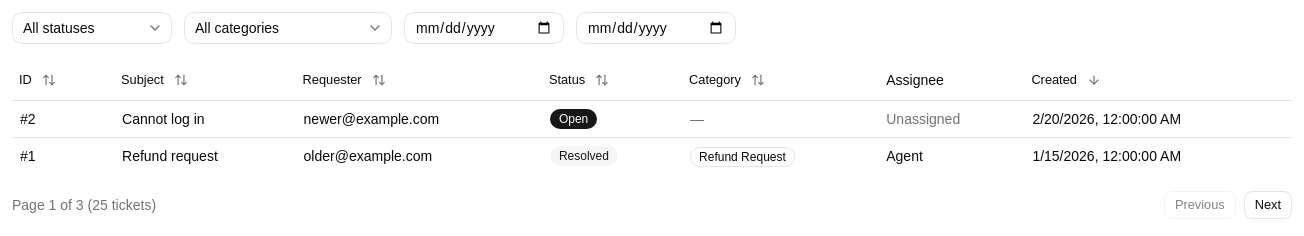
TicketsTable › requests page 2 with the same sort/filters when Next is clicked, and enables Previous
Expected: the table is shown, [12, 60, 1292, 174]
Click the button "Next": (1268, 204) [1244, 190, 1292, 218]
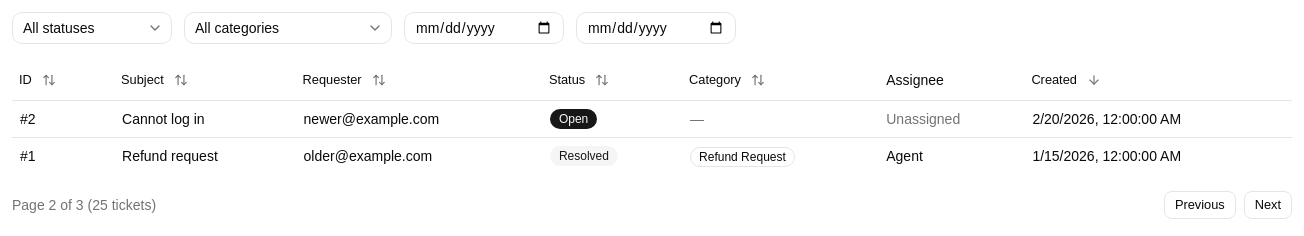
Now the text "Page 2 of 3 (25 tickets)" is shown, box [12, 194, 156, 214]
Now the button "Previous" is enabled, box [1164, 190, 1236, 218]
